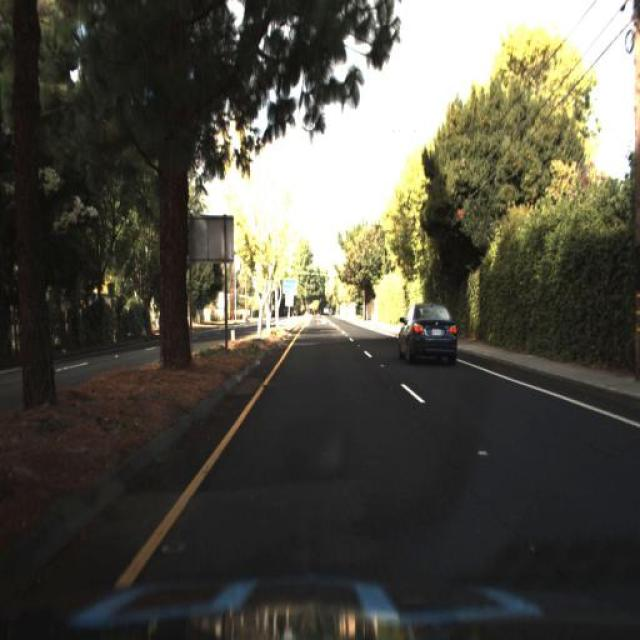car: (395, 300, 460, 370)
